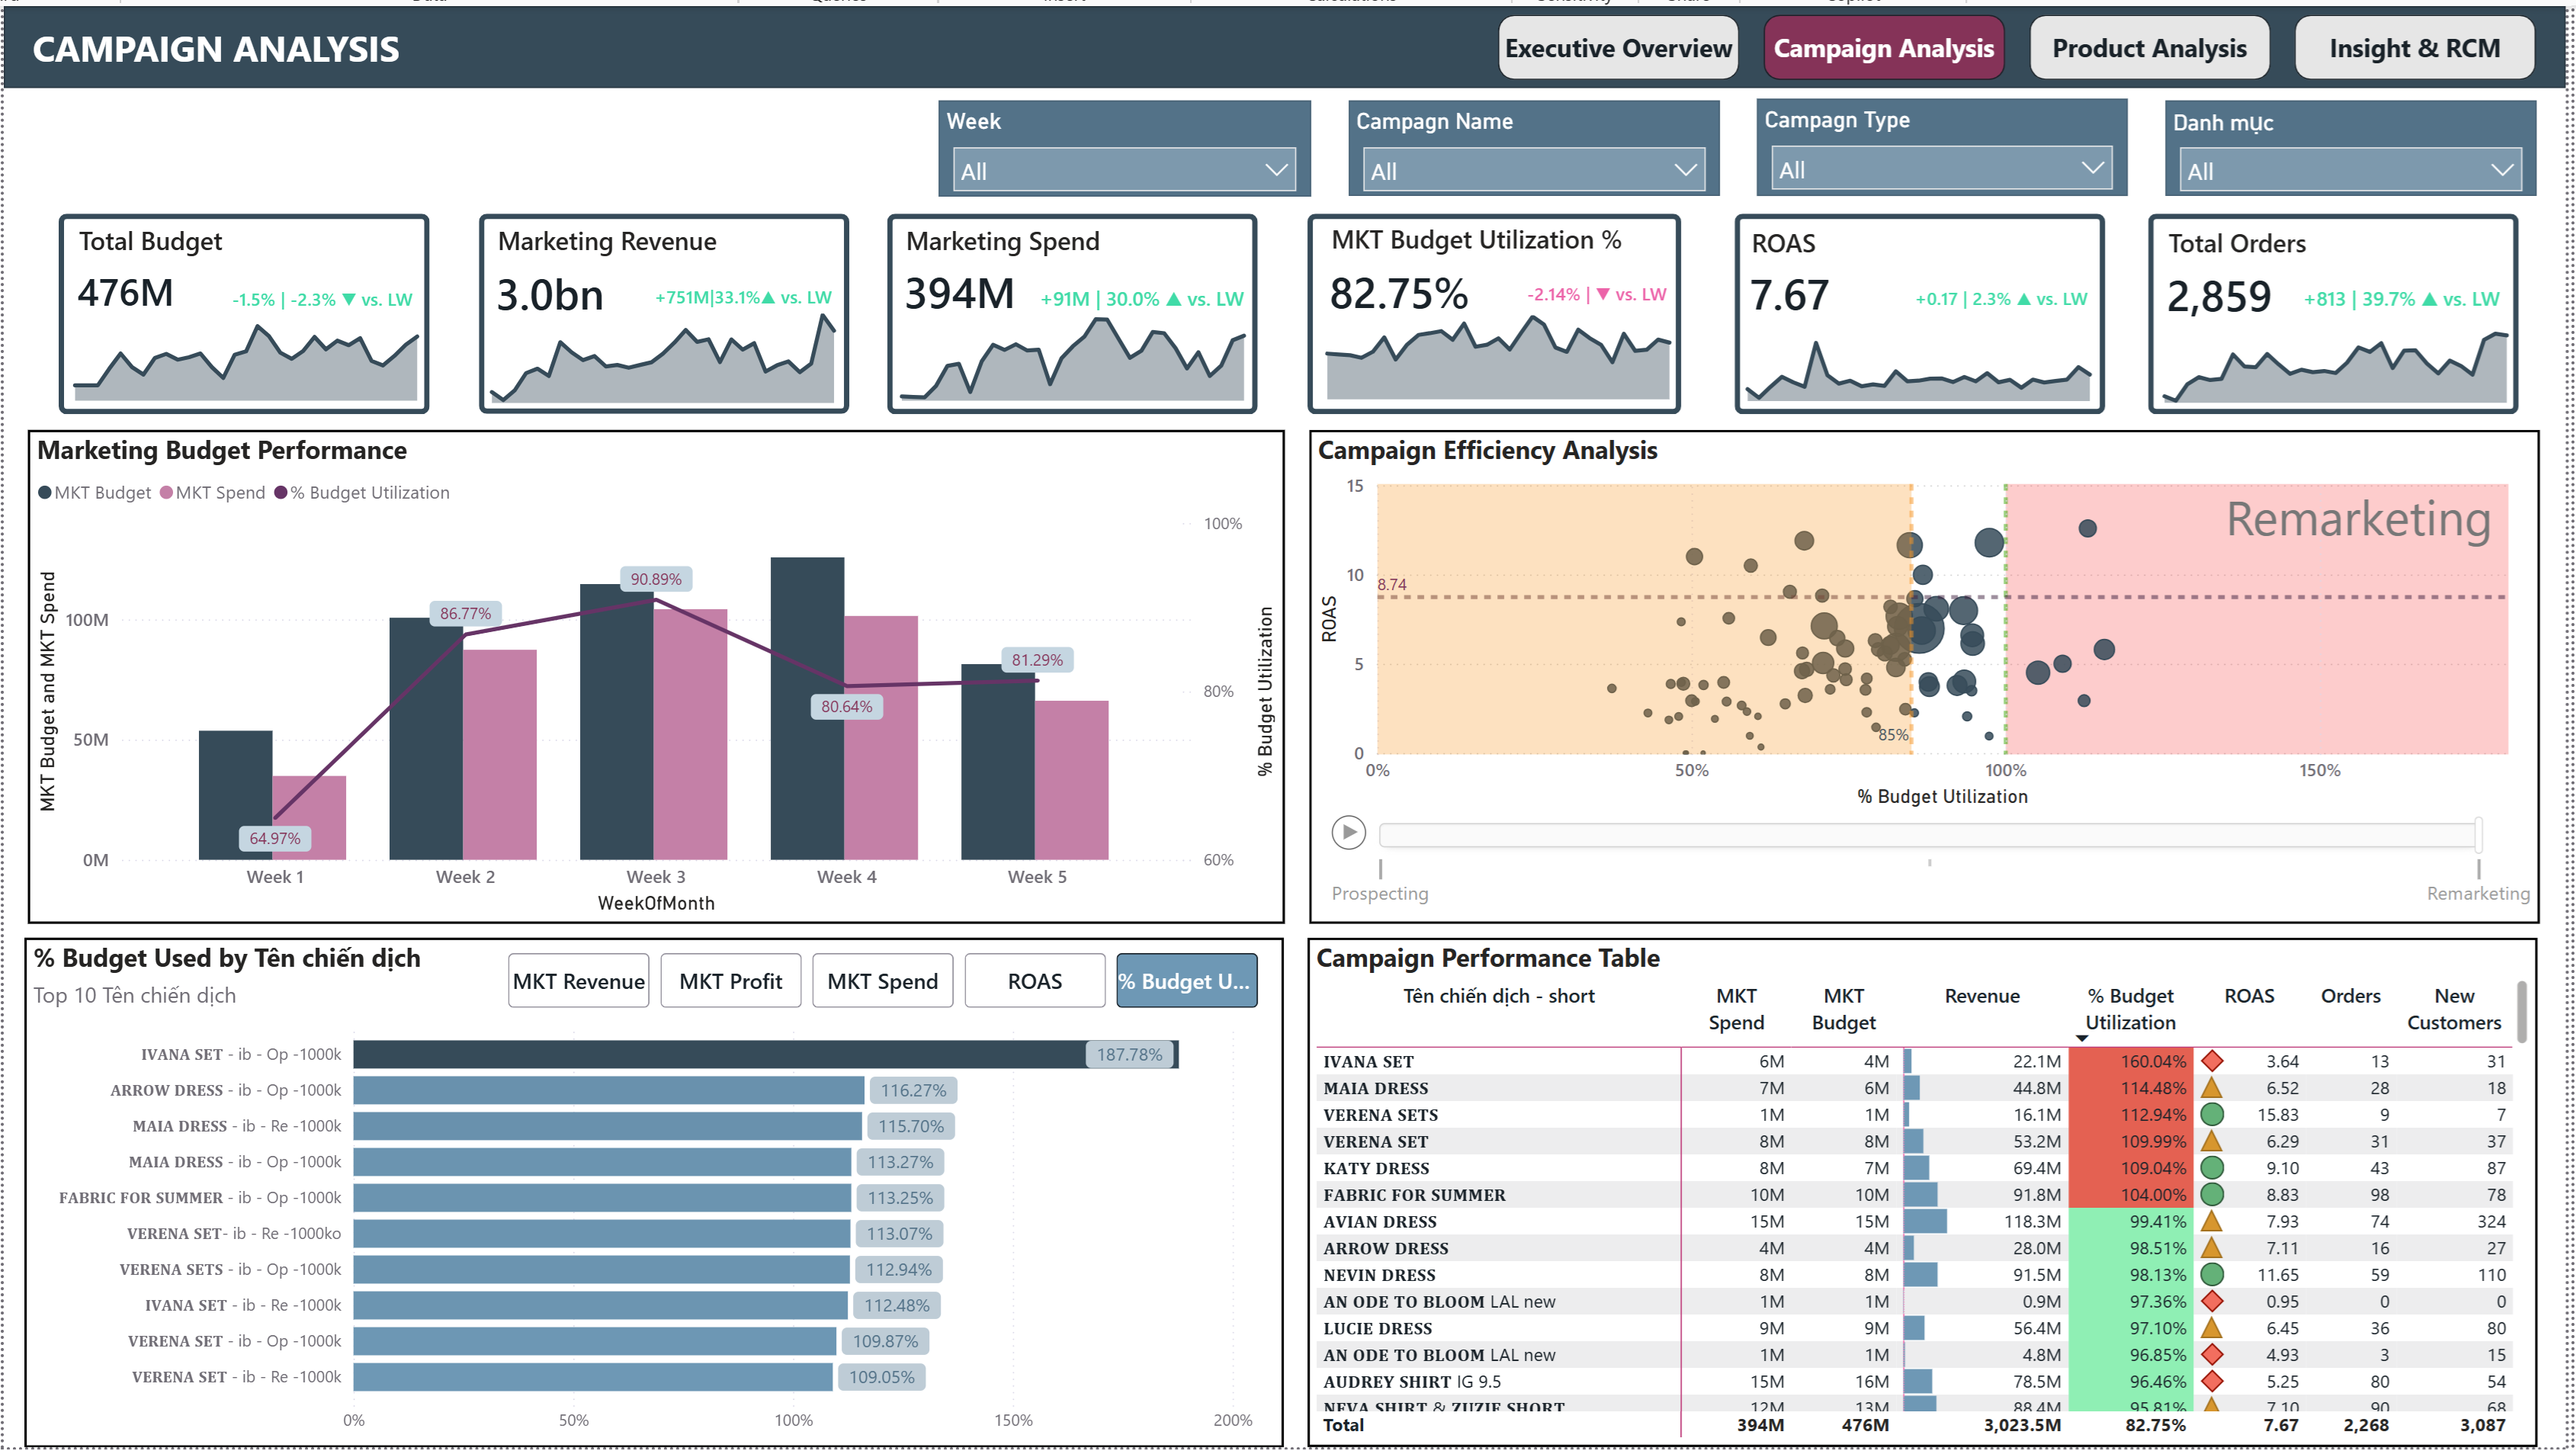

What the dashboard file says about the page in this screenshot:
{"tool":"powerbi","page":{"name":"Campaign Analysis","canvas":[1920,1080],"ordinal":1},"visuals":[{"type":"shape","box":[0,0,1920,61.4],"z":0},{"type":"cardVisual","fields":{"Data":["_Measure.% Budget Utilization"]},"box":[979.5,183,280.5,59.8],"z":0,"group":"g4"},{"type":"cardVisual","fields":{"Data":["_Measure.MKT Budget"]},"box":[41.9,183.8,280.5,59.8],"z":0,"group":"g6"},{"type":"cardVisual","fields":{"Data":["_Measure.Marketing Spend"]},"box":[661,184.1,280.5,59.8],"z":0,"group":"g3"},{"type":"cardVisual","fields":{"Data":["_Measure.ROAS"]},"box":[1294.5,184.4,280.5,59.8],"z":0,"group":"g2"},{"type":"cardVisual","fields":{"Data":["_Measure.MKT Revenue by Camp"]},"box":[354.9,184.9,280.5,59.8],"z":0,"group":"g5"},{"type":"cardVisual","fields":{"Data":["_Measure.Total Orders"]},"box":[1606.5,185.5,280.5,59.8],"z":0,"group":"g1"},{"type":"textbox","box":[17.1,7.1,622.9,81.4],"z":1000},{"type":"lineChart","fields":{"Y":["_Measure.MKT Revenue by Orders"],"Category":["Dim_Date.Date"]},"box":[353.9,222.4,280.5,76],"z":1000,"group":"g5"},{"type":"lineChart","fields":{"Category":["Dim_Date.Date"],"Y":["_Measure.% Budget Utilization"]},"box":[979.5,222.9,280.5,76],"z":1000,"group":"g4"},{"type":"lineChart","fields":{"Y":["_Measure.MKT Budget"],"Category":["Dim_Date.Date"]},"box":[41.9,223.7,280.5,76],"z":1000,"group":"g6"},{"type":"lineChart","fields":{"Y":["_Measure.Marketing Spend"],"Category":["Dim_Date.Date"]},"box":[661,224,280.5,76],"z":1000,"group":"g3"},{"type":"lineChart","fields":{"Y":["_Measure.ROAS"],"Category":["Dim_Date.Date"]},"box":[1294.5,224.5,280.5,76],"z":1000,"group":"g2"},{"type":"lineChart","fields":{"Y":["_Measure.Total Orders"],"Category":["Dim_Date.Date"]},"box":[1606.5,225.3,280.5,76],"z":1000,"group":"g1"},{"type":"group","id":"g1","title":"Group 1","box":[1606.5,155.1,280.5,150.3],"z":2000},{"type":"textbox","box":[979.5,156.9,280.5,52.4],"z":2000,"group":"g4"},{"type":"textbox","box":[41.9,157.6,280.5,52.4],"z":2000,"group":"g6"},{"type":"textbox","box":[661,157.9,280.5,52.4],"z":2000,"group":"g3"},{"type":"textbox","box":[1294.5,158.2,280.5,52.4],"z":2000,"group":"g2"},{"type":"textbox","box":[354.9,158.7,280.5,52.4],"z":2000,"group":"g5"},{"type":"textbox","box":[1606.5,159.3,280.5,52.4],"z":2000,"group":"g1"},{"type":"shape","box":[1296.6,155,277.6,150.3],"z":2500,"group":"g2"},{"type":"shape","box":[1606.5,155.1,277.6,150.3],"z":2500,"group":"g1"},{"type":"shape","box":[662.2,155.2,277.6,150.3],"z":2500,"group":"g3"},{"type":"shape","box":[976.7,155.2,280,150.3],"z":2500,"group":"g4"},{"type":"shape","box":[356,155.8,277.6,150],"z":2500,"group":"g5"},{"type":"group","id":"g2","title":"Group 1","box":[1294.5,155,280.4,150.5],"z":3000},{"type":"cardVisual","fields":{"Data":["_Measure.Budget Utilization Label WoW"]},"box":[1037.1,192.5,216.1,43.2],"z":3000,"group":"g4"},{"type":"cardVisual","fields":{"Data":["_Measure.MTK Revenue Label WoW"]},"box":[417.9,194.7,215.8,45],"z":3000,"group":"g5"},{"type":"cardVisual","fields":{"Data":["_Measure.Orders Label WoW"]},"box":[1667.1,194.7,215.6,44.4],"z":3000,"group":"g1"},{"type":"cardVisual","fields":{"Data":["_Measure.MTK ROAS Label WoW"]},"box":[1358.3,195,215.8,44.2],"z":3000,"group":"g2"},{"type":"cardVisual","fields":{"Data":["_Measure.MTK Spend Label WoW"]},"box":[726.3,195.4,215.4,44.6],"z":3000,"group":"g3"},{"type":"group","id":"g3","title":"Group 1","box":[661,155.2,280.8,150],"z":4000},{"type":"group","id":"g4","title":"Group 1","box":[976.7,155.2,282.6,150],"z":5000},{"type":"group","id":"g5","title":"Group 1","box":[353.9,155.8,282,148.9],"z":6000},{"type":"group","id":"g6","title":"Group 1","box":[41.3,155.1,281.1,150.3],"z":7000},{"type":"shape","box":[41.3,155.1,278,150.3],"z":7001,"group":"g6"},{"type":"cardVisual","fields":{"Data":["_Measure.MTK Budget Label WoW1"]},"box":[74.6,195.9,244.6,43.8],"z":7501,"group":"g6"},{"type":"scatterChart","title":"Campaign Efficiency Analysis","fields":{"Category":["dim_mkt_camp_cost.Tên chiến dịch"],"X":["_Measure.% Budget Utilization"],"Y":["_Measure.ROAS"],"Size":["_Measure.MKT Revenue by Camp"],"Play":["dim_mkt_camp_cost._Campaign Type"]},"box":[978,318,922,370],"z":8000},{"type":"lineClusteredColumnComboChart","title":"Marketing Budget Performance","fields":{"Y":["_Measure.MKT Budget","_Measure.MKT Spend"],"Category":["Dim_Date.WeekOfMonth"],"Y2":["_Measure.% Budget Utilization"]},"box":[18,318,942,370],"z":9000},{"type":"pivotTable","title":"Campaign Performance Table","fields":{"Rows":["dim_mkt_camp_cost.Tên chiến dịch - short"],"Values":["_Measure.MKT Spend","_Measure.MKT Budget","_Measure.MKT Revenue by Camp","_Measure.% Budget Utilization","_Measure.ROAS","_Measure.MKT Orders","_Measure.Total New Customers"]},"box":[977.4,698.6,922,381.8],"z":10000},{"type":"clusteredBarChart","fields":{"Y":["_Measure.% Budget Utilization"],"Category":["dim_mkt_camp_cost.Tên chiến dịch"]},"box":[16,698,944,382],"z":11000},{"type":"advancedSlicerVisual","fields":{"Values":["Parameter 2.Parameter"]},"box":[378.3,710,563.3,41.7],"z":12000},{"type":"slicer","title":"Campagn Name","fields":{"Values":["dim_mkt_camp_cost.Tên chiến dịch"]},"box":[1007.7,70.3,278.3,71.7],"z":13000},{"type":"slicer","title":"Danh mục","fields":{"Values":["dim_danh sach san pham.Danh mục"]},"box":[1620.6,70.3,278.3,71.7],"z":14000},{"type":"slicer","title":"Week","fields":{"Values":["Dim_Date.WeekOfMonth"]},"box":[700.2,70.1,278.9,72.1],"z":15000},{"type":"slicer","title":"Campagn Type","fields":{"Values":["dim_mkt_camp_cost._Campaign Type"]},"box":[1314.5,69.8,277.6,72.8],"z":16000},{"type":"pageNavigator","box":[1120,6.3,781,49.1],"z":17000}]}

Visuals, with their boxes in screenshot pixels (x1, y1, x2, y2), scaled from the page's 1920x1080 canvas onto the 2576x1451 screenshot:
shape: bbox(0, 0, 2575, 82)
cardVisual - _Measure.% Budget Utilization: bbox(1314, 246, 1690, 326)
cardVisual - _Measure.MKT Budget: bbox(56, 247, 432, 327)
cardVisual - _Measure.Marketing Spend: bbox(887, 247, 1263, 328)
cardVisual - _Measure.ROAS: bbox(1737, 248, 2113, 328)
cardVisual - _Measure.MKT Revenue by Camp: bbox(476, 249, 852, 329)
cardVisual - _Measure.Total Orders: bbox(2155, 249, 2532, 329)
textbox: bbox(23, 10, 858, 119)
lineChart - _Measure.MKT Revenue by Orders x Dim_Date.Date: bbox(475, 299, 851, 401)
lineChart - Dim_Date.Date x _Measure.% Budget Utilization: bbox(1314, 300, 1690, 402)
lineChart - _Measure.MKT Budget x Dim_Date.Date: bbox(56, 300, 432, 403)
lineChart - _Measure.Marketing Spend x Dim_Date.Date: bbox(887, 301, 1263, 403)
lineChart - _Measure.ROAS x Dim_Date.Date: bbox(1737, 302, 2113, 403)
lineChart - _Measure.Total Orders x Dim_Date.Date: bbox(2155, 303, 2532, 405)
"Group 1" group: bbox(2155, 208, 2532, 410)
textbox: bbox(1314, 210, 1690, 281)
textbox: bbox(56, 212, 432, 282)
textbox: bbox(887, 212, 1263, 283)
textbox: bbox(1737, 213, 2113, 283)
textbox: bbox(476, 213, 852, 284)
textbox: bbox(2155, 214, 2532, 284)
shape: bbox(1740, 208, 2112, 410)
shape: bbox(2155, 208, 2528, 410)
shape: bbox(888, 208, 1261, 410)
shape: bbox(1310, 208, 1686, 410)
shape: bbox(478, 210, 850, 411)
"Group 1" group: bbox(1737, 208, 2113, 410)
cardVisual - _Measure.Budget Utilization Label WoW: bbox(1391, 258, 1682, 316)
cardVisual - _Measure.MTK Revenue Label WoW: bbox(560, 262, 850, 322)
cardVisual - _Measure.Orders Label WoW: bbox(2237, 262, 2526, 321)
cardVisual - _Measure.MTK ROAS Label WoW: bbox(1822, 262, 2112, 321)
cardVisual - _Measure.MTK Spend Label WoW: bbox(974, 262, 1263, 323)
"Group 1" group: bbox(887, 208, 1263, 410)
"Group 1" group: bbox(1310, 208, 1689, 410)
"Group 1" group: bbox(475, 210, 853, 409)
"Group 1" group: bbox(56, 208, 432, 410)
shape: bbox(56, 208, 428, 410)
cardVisual - _Measure.MTK Budget Label WoW1: bbox(100, 263, 428, 322)
"Campaign Efficiency Analysis" scatterChart: bbox(1312, 427, 2549, 924)
"Marketing Budget Performance" lineClusteredColumnComboChart: bbox(24, 427, 1288, 924)
"Campaign Performance Table" pivotTable: bbox(1311, 939, 2549, 1450)
clusteredBarChart - _Measure.% Budget Utilization x dim_mkt_camp_cost.Tên chiến dịch: bbox(21, 938, 1288, 1450)
advancedSlicerVisual - Parameter 2.Parameter: bbox(508, 954, 1263, 1010)
"Campagn Name" slicer: bbox(1352, 95, 1725, 191)
"Danh mục" slicer: bbox(2174, 95, 2548, 191)
"Week" slicer: bbox(939, 95, 1314, 191)
"Campagn Type" slicer: bbox(1763, 94, 2136, 191)
pageNavigator: bbox(1503, 8, 2551, 75)
